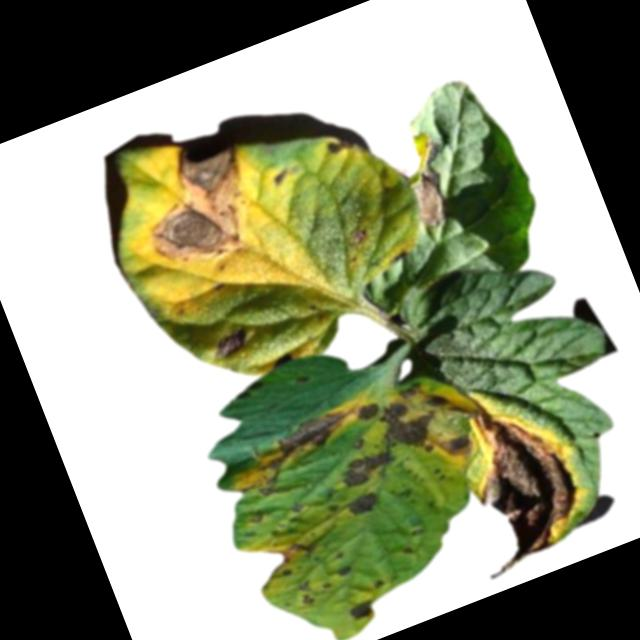Early_blight: (432, 388, 605, 584), (115, 129, 275, 288), (224, 404, 364, 503), (372, 371, 463, 463), (390, 129, 461, 234), (203, 318, 256, 367), (339, 450, 397, 493), (321, 132, 368, 171), (344, 488, 384, 524), (342, 594, 384, 628), (278, 537, 317, 567), (352, 397, 382, 429), (294, 578, 319, 609), (344, 226, 373, 251), (267, 167, 293, 190), (333, 564, 352, 583)
